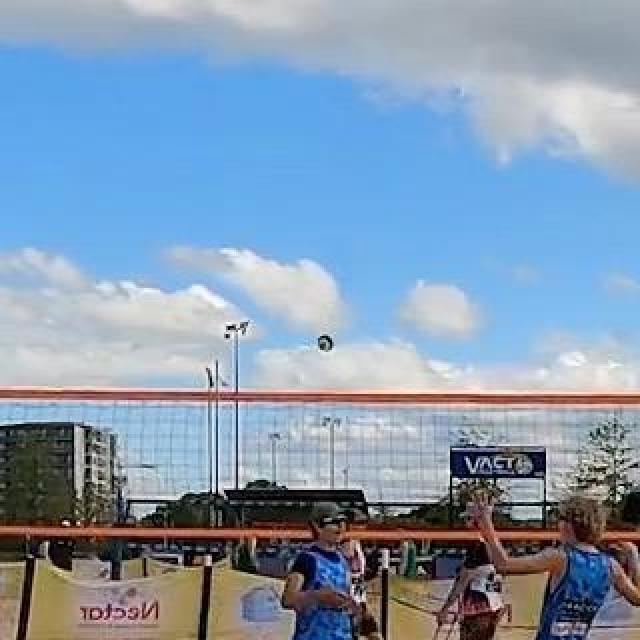volleyball: (317, 334, 333, 352)
